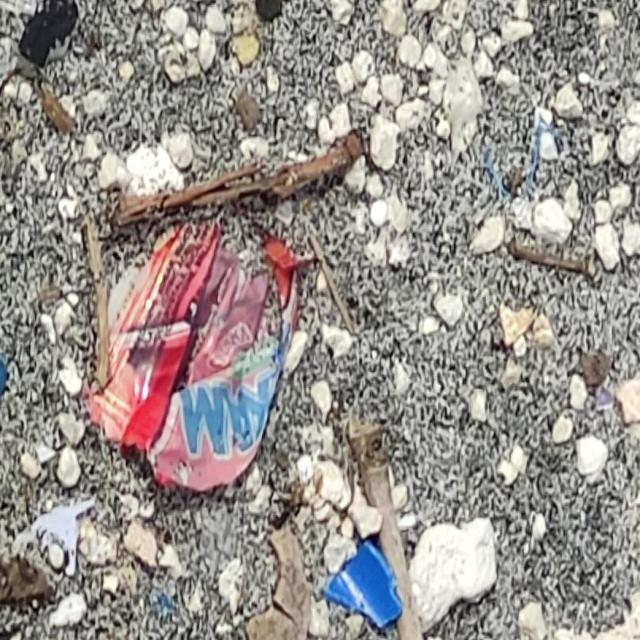plastic_waste: (82, 212, 305, 496)
